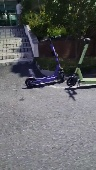beam: (25, 36, 68, 88)
gcooter: (66, 35, 96, 88)
